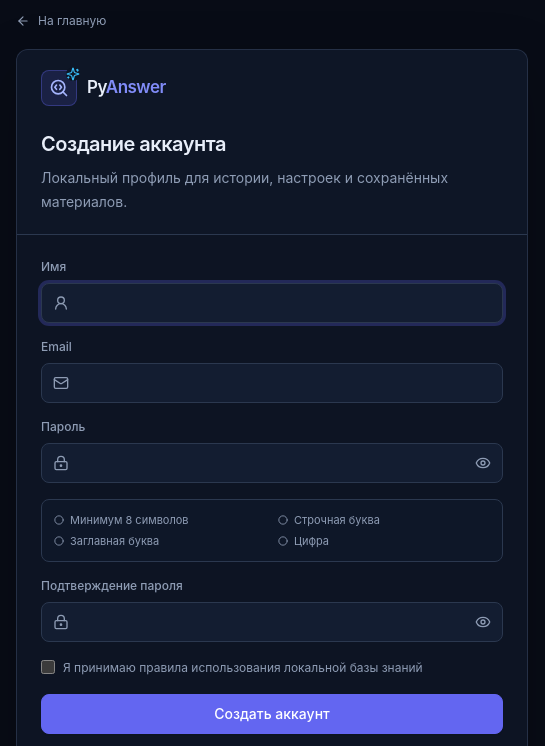
Scenario: RegisterPage › отклоняет существующий email без учёта регистра
The width and height of the screenshot is (545, 746).
Type "Новый Пользователь" into the field labelled "Имя" at (272, 303), box x1=41 y1=283 x2=503 y2=323
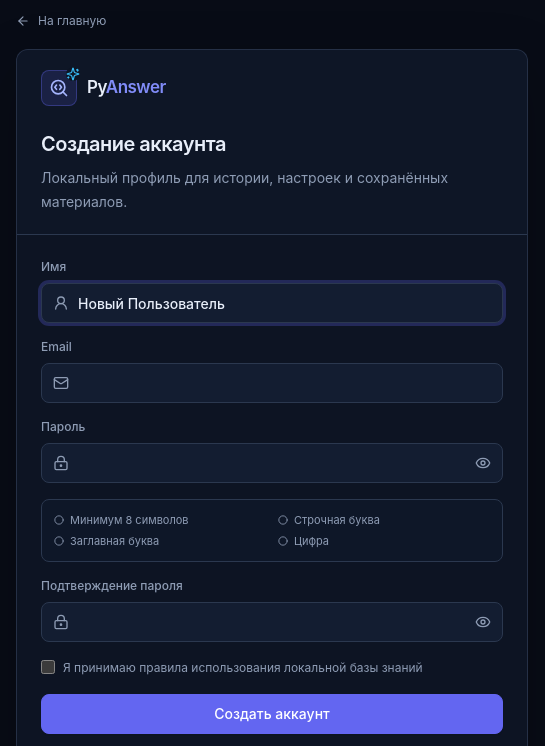
Type "USER@PYANSWER.LOCAL" into the field labelled "Email" at (272, 383), box x1=41 y1=363 x2=503 y2=403
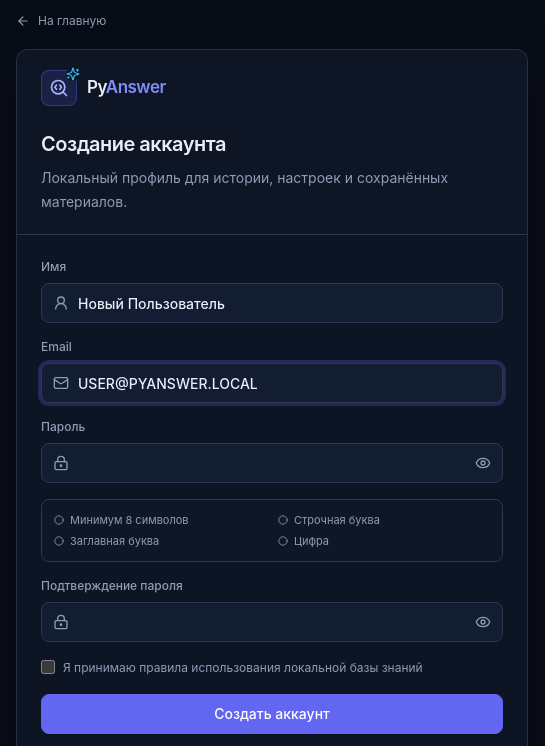
Type "Strong123" into the password field labelled "Пароль" at (272, 463), box x1=41 y1=443 x2=503 y2=483
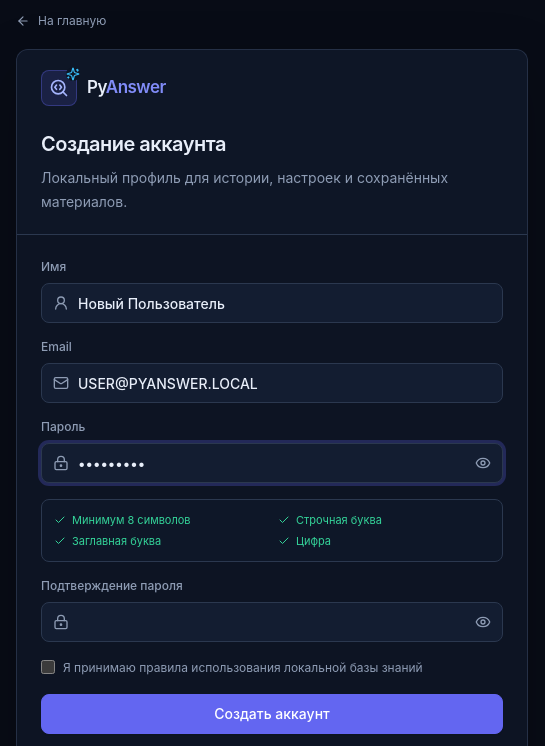
Type "Strong123" into the password field labelled "Подтверждение пароля" at (272, 622), box x1=41 y1=602 x2=503 y2=642
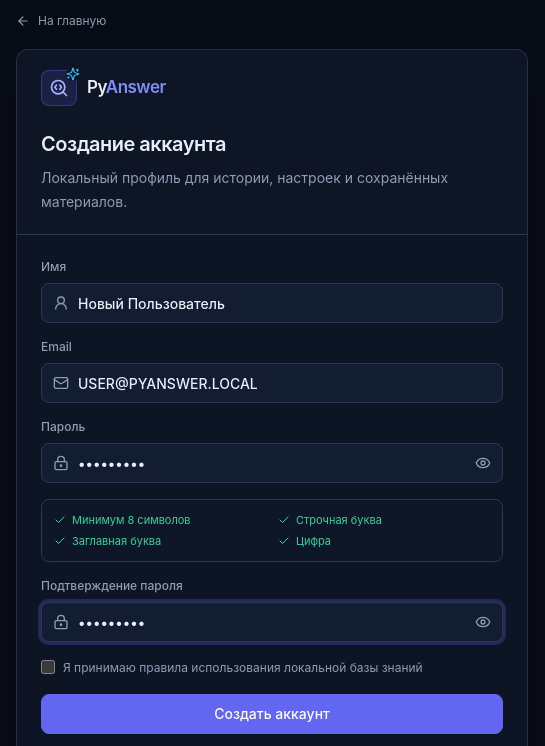
Click the checkbox labelled "Я принимаю правила использования локальной базы знаний" at (48, 667), box x1=41 y1=660 x2=55 y2=674
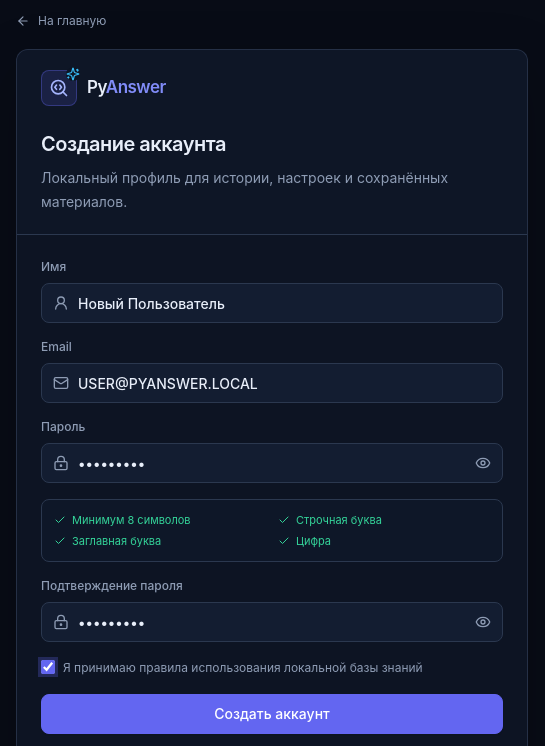
Click the button "Создать аккаунт" at (272, 714), box x1=41 y1=694 x2=503 y2=734
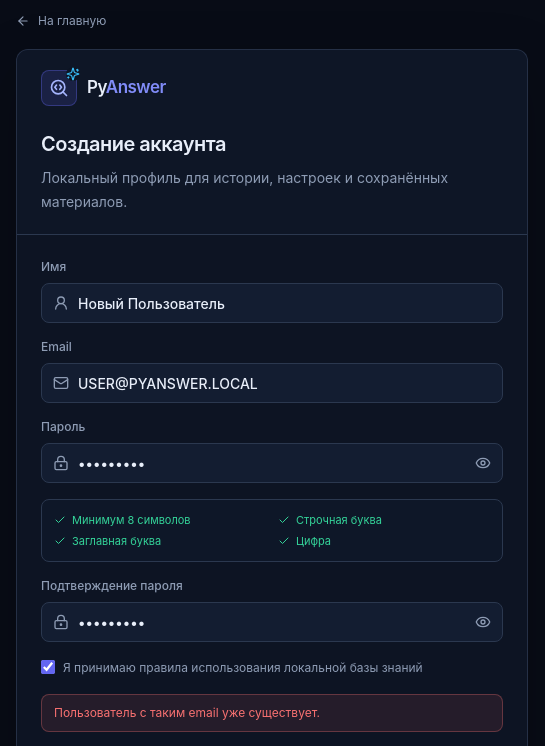
Check: the text "Пользователь с таким email уже существует." is shown, box x1=41 y1=694 x2=503 y2=732
